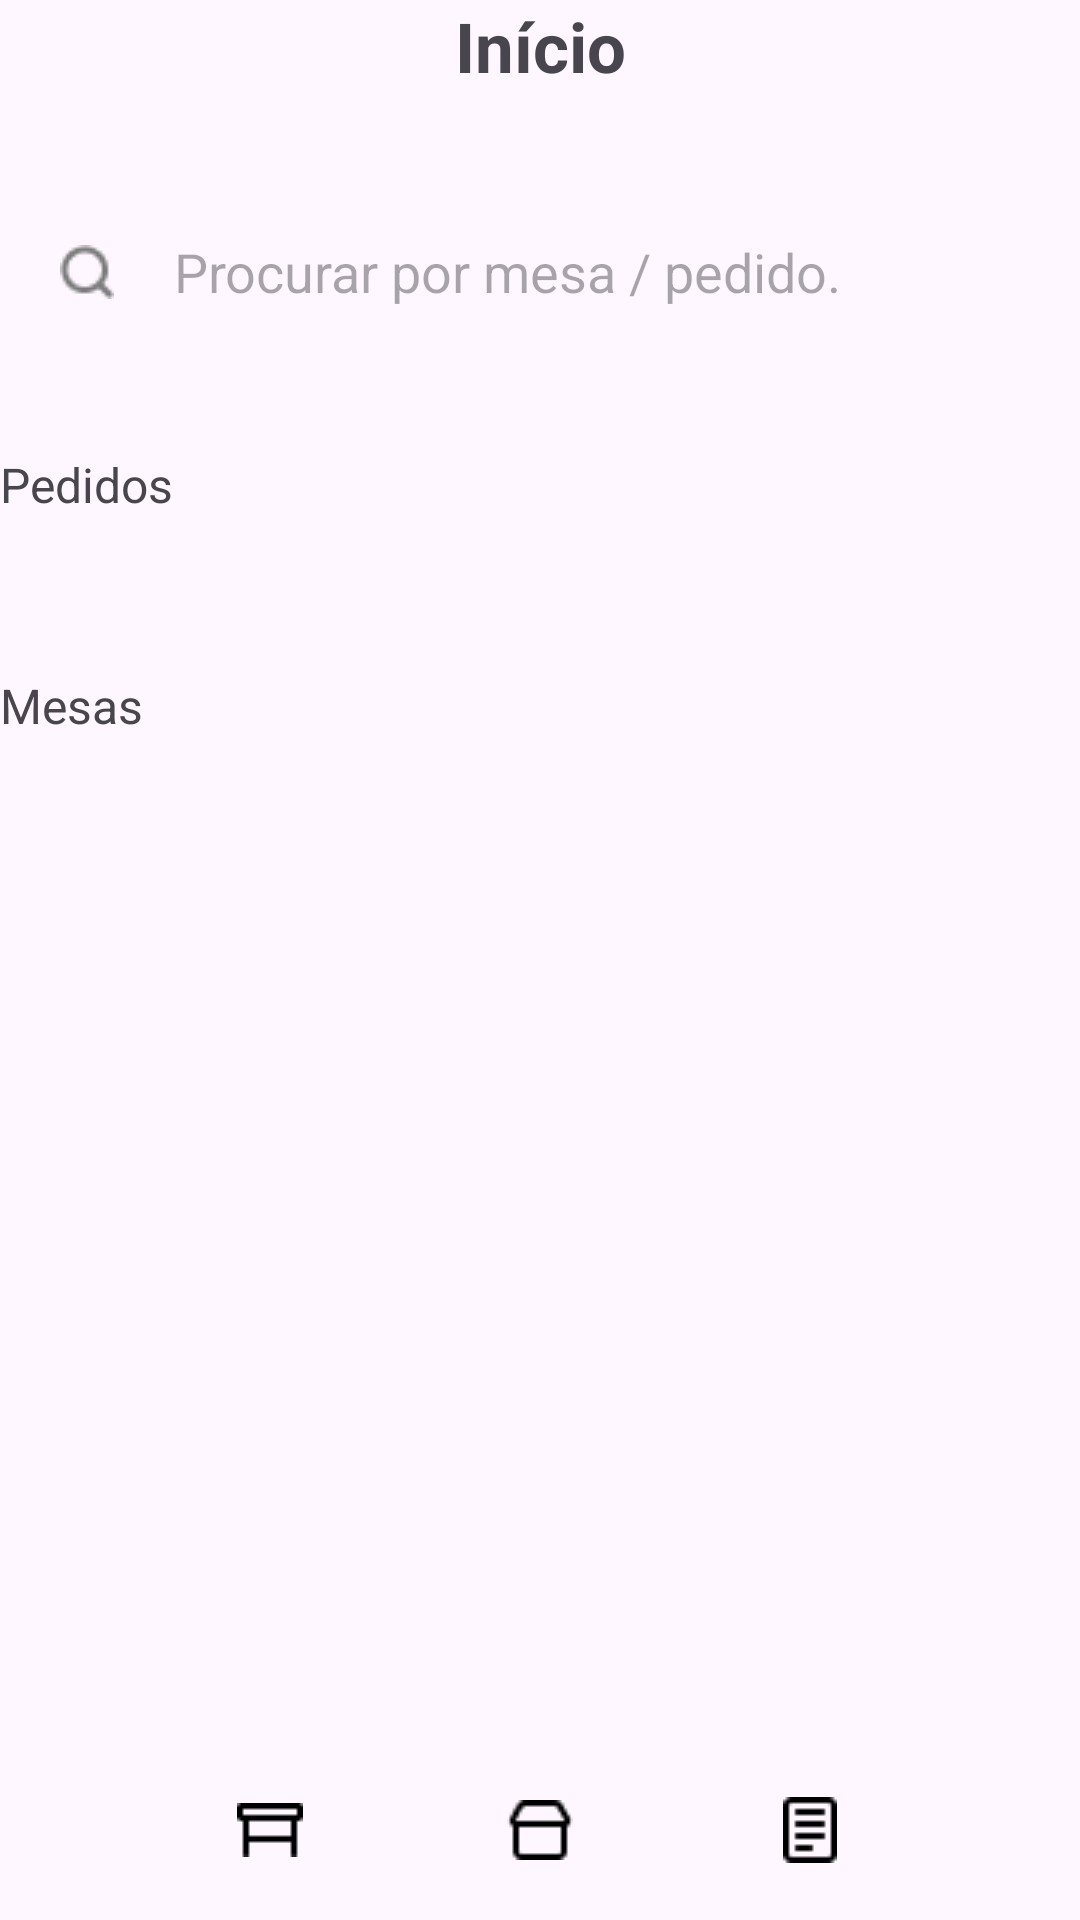

Icon bounding boxes for this 1080×1920 phone screenshot, format [x1, y1, x2, y2]:
list: [783, 1797, 837, 1863]
table: [237, 1803, 303, 1857]
